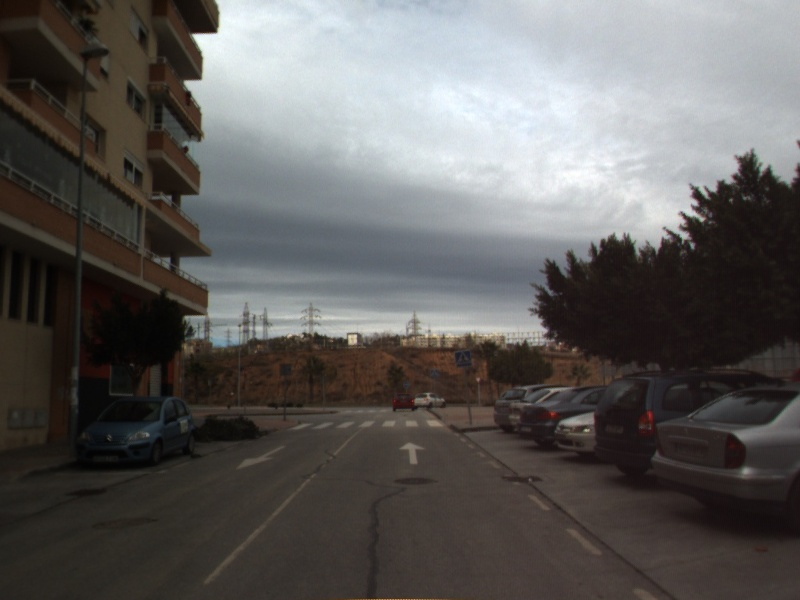STRAIGHT: (397, 440, 428, 466)
